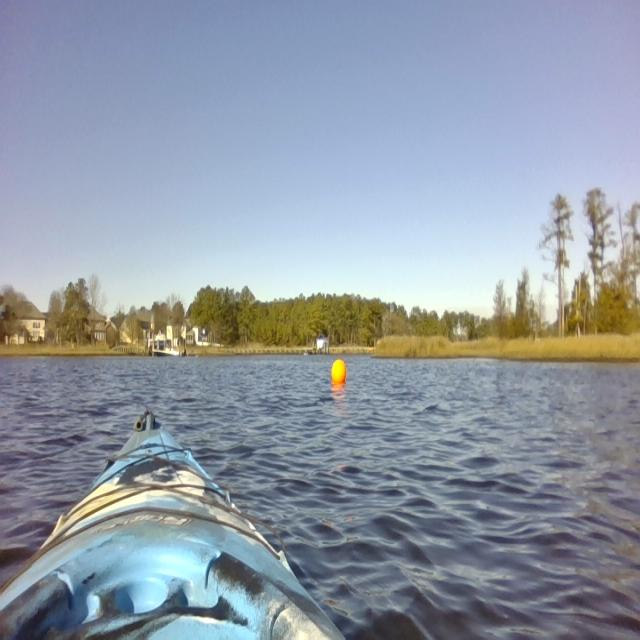Buoy: (330, 354, 350, 392)
